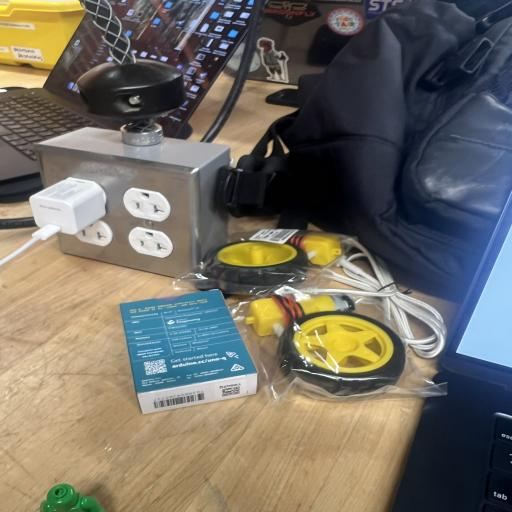green-lego-minifigure-detector: (40, 484, 104, 512)
